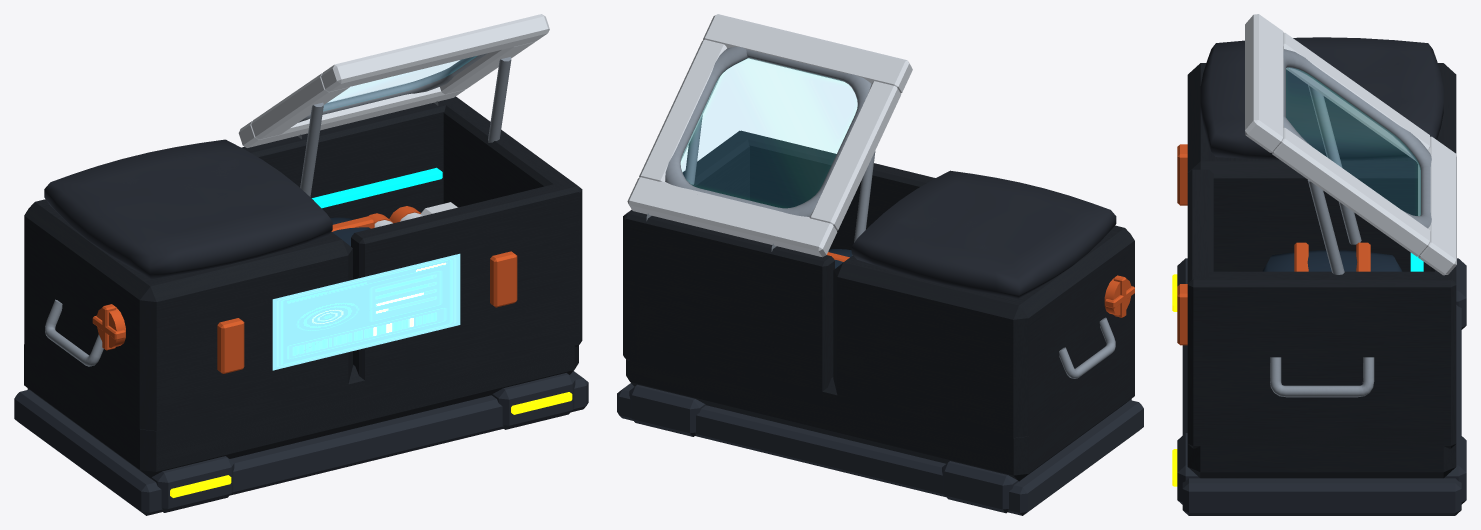
File: footlocker_r1_01.glb
3 views of the same model, side by side, from view 1: azimuth 30°, elevation 25°; view 2: azimuth 150°, elevation 25°; view 3: azimuth 270°, elevation 25° (orthographic). The views are drawn at different scales.
Visible parts, largest first — view 1: Footlocker01_OctagonalGunmetalHull, Footlocker01_CharcoalBenchAndFoam, Footlocker01_CarbonSlateMagneticSkids, Footlocker01_FrontOLEDManifest, Footlocker01_WhiteLidAndStowedCanisters, Footlocker01_MachinedStrutsAndHandles, Footlocker01_SignalOrangeLatchesAndValve, Footlocker01_InternalCyanLED, Footlocker01_SkidAmberBeacons; view 2: Footlocker01_OctagonalGunmetalHull, Footlocker01_CharcoalBenchAndFoam, Footlocker01_WhiteLidAndStowedCanisters, Footlocker01_CarbonSlateMagneticSkids, Footlocker01_TranslucentLidViewport, Footlocker01_MachinedStrutsAndHandles, Footlocker01_SignalOrangeLatchesAndValve; view 3: Footlocker01_OctagonalGunmetalHull, Footlocker01_WhiteLidAndStowedCanisters, Footlocker01_CharcoalBenchAndFoam, Footlocker01_CarbonSlateMagneticSkids, Footlocker01_MachinedStrutsAndHandles, Footlocker01_TranslucentLidViewport, Footlocker01_SignalOrangeLatchesAndValve, Footlocker01_StowedOrbitalNavyBundle, Footlocker01_SkidAmberBeacons.
Boxes of the visible parts, box(x1,y1,x2,y2) form: Footlocker01_OctagonalGunmetalHull: box(24, 96, 582, 478); Footlocker01_CharcoalBenchAndFoam: box(44, 139, 332, 279); Footlocker01_CarbonSlateMagneticSkids: box(14, 371, 588, 515); Footlocker01_FrontOLEDManifest: box(272, 253, 460, 370); Footlocker01_WhiteLidAndStowedCanisters: box(238, 14, 549, 227); Footlocker01_MachinedStrutsAndHandles: box(45, 53, 511, 366); Footlocker01_SignalOrangeLatchesAndValve: box(92, 206, 517, 373); Footlocker01_InternalCyanLED: box(312, 167, 442, 208); Footlocker01_SkidAmberBeacons: box(170, 392, 572, 497); Footlocker01_OctagonalGunmetalHull: box(623, 130, 1134, 481); Footlocker01_CharcoalBenchAndFoam: box(851, 170, 1116, 298); Footlocker01_WhiteLidAndStowedCanisters: box(627, 14, 912, 257); Footlocker01_CarbonSlateMagneticSkids: box(617, 383, 1143, 515); Footlocker01_TranslucentLidViewport: box(681, 58, 856, 207); Footlocker01_MachinedStrutsAndHandles: box(646, 46, 1115, 378); Footlocker01_SignalOrangeLatchesAndValve: box(827, 252, 1134, 317); Footlocker01_OctagonalGunmetalHull: box(1187, 63, 1456, 478); Footlocker01_WhiteLidAndStowedCanisters: box(1245, 14, 1456, 275); Footlocker01_CharcoalBenchAndFoam: box(1200, 37, 1443, 160); Footlocker01_CarbonSlateMagneticSkids: box(1177, 258, 1466, 515); Footlocker01_MachinedStrutsAndHandles: box(1270, 49, 1431, 397); Footlocker01_TranslucentLidViewport: box(1286, 68, 1420, 215); Footlocker01_SignalOrangeLatchesAndValve: box(1177, 144, 1370, 345); Footlocker01_StowedOrbitalNavyBundle: box(1262, 250, 1402, 271); Footlocker01_SkidAmberBeacons: box(1172, 274, 1177, 486).
Size of the model in its own units: 1.11 by 0.8364 by 0.57.
Materials: 11 (11 with a texture image).
